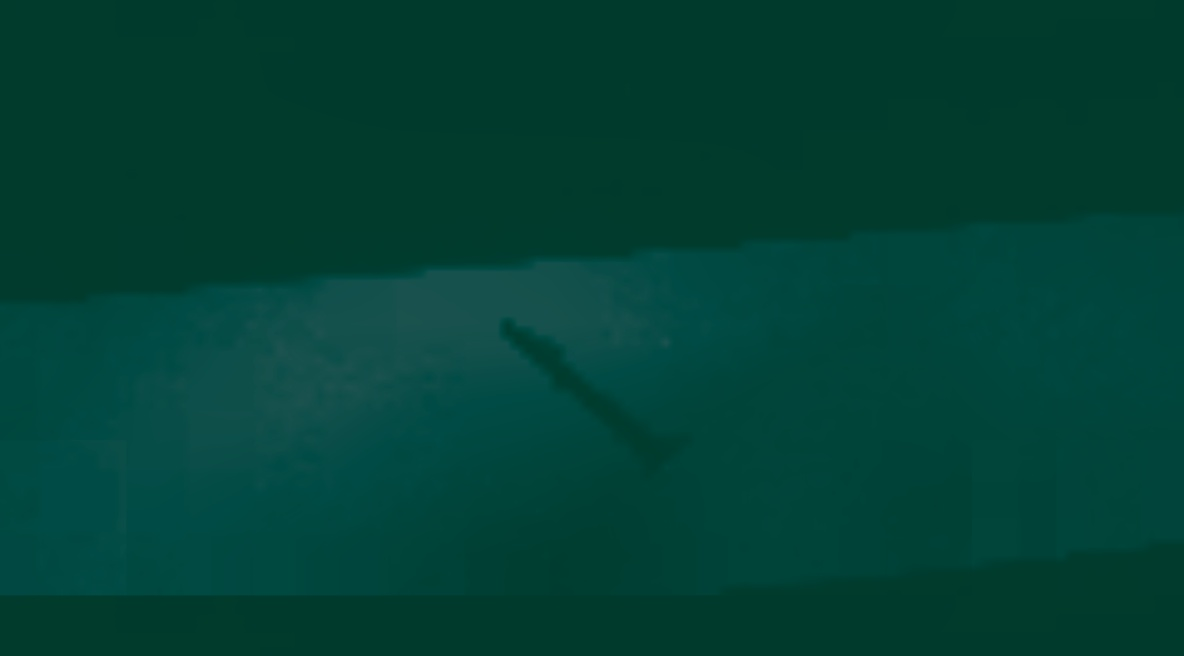S001: (488, 289, 712, 501)
